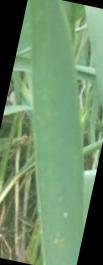Wheat: (39, 9, 68, 178), (49, 189, 76, 259)
